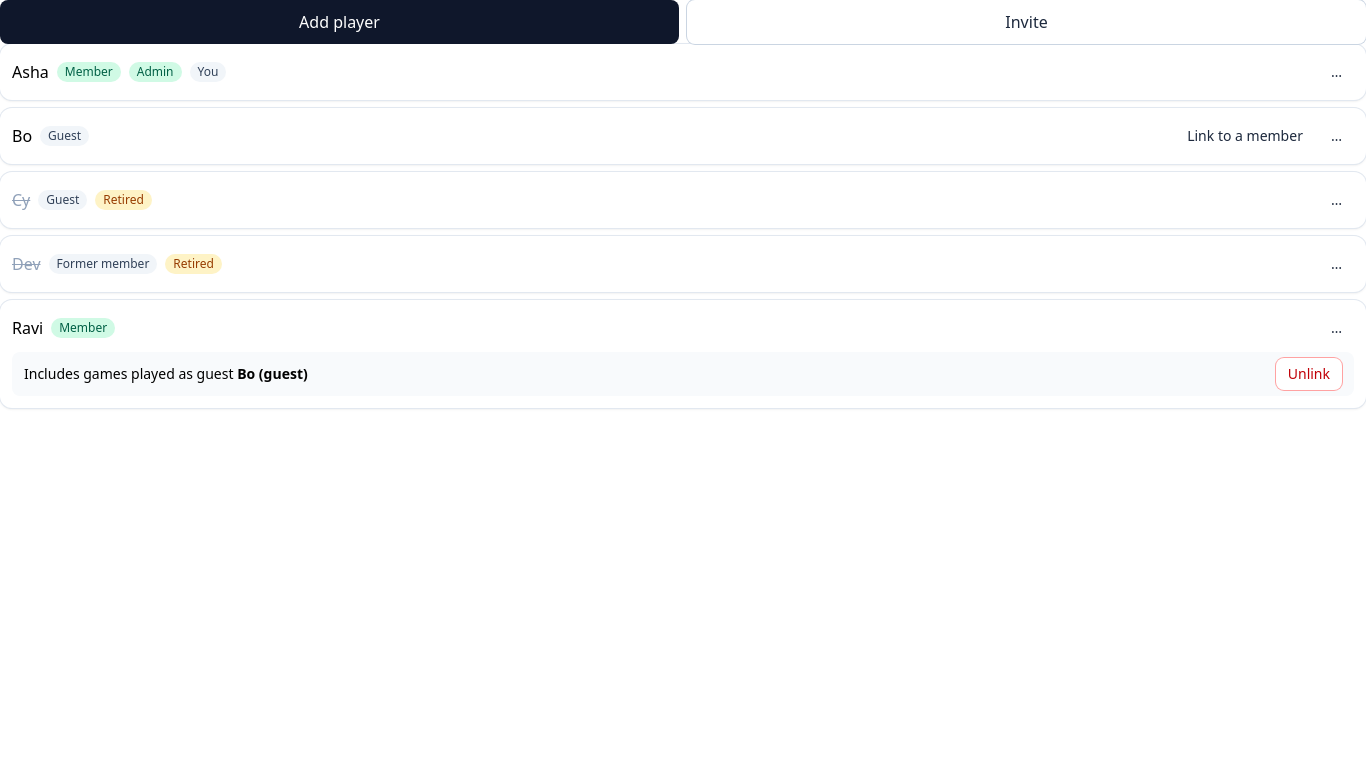
Test case: the actions on a row › opens the menu with rename and retire, and shuts it on Escape or a tap elsewhere
The image size is (1366, 768).
Click the 2nd button "…": (1336, 136) [1319, 120, 1354, 152]
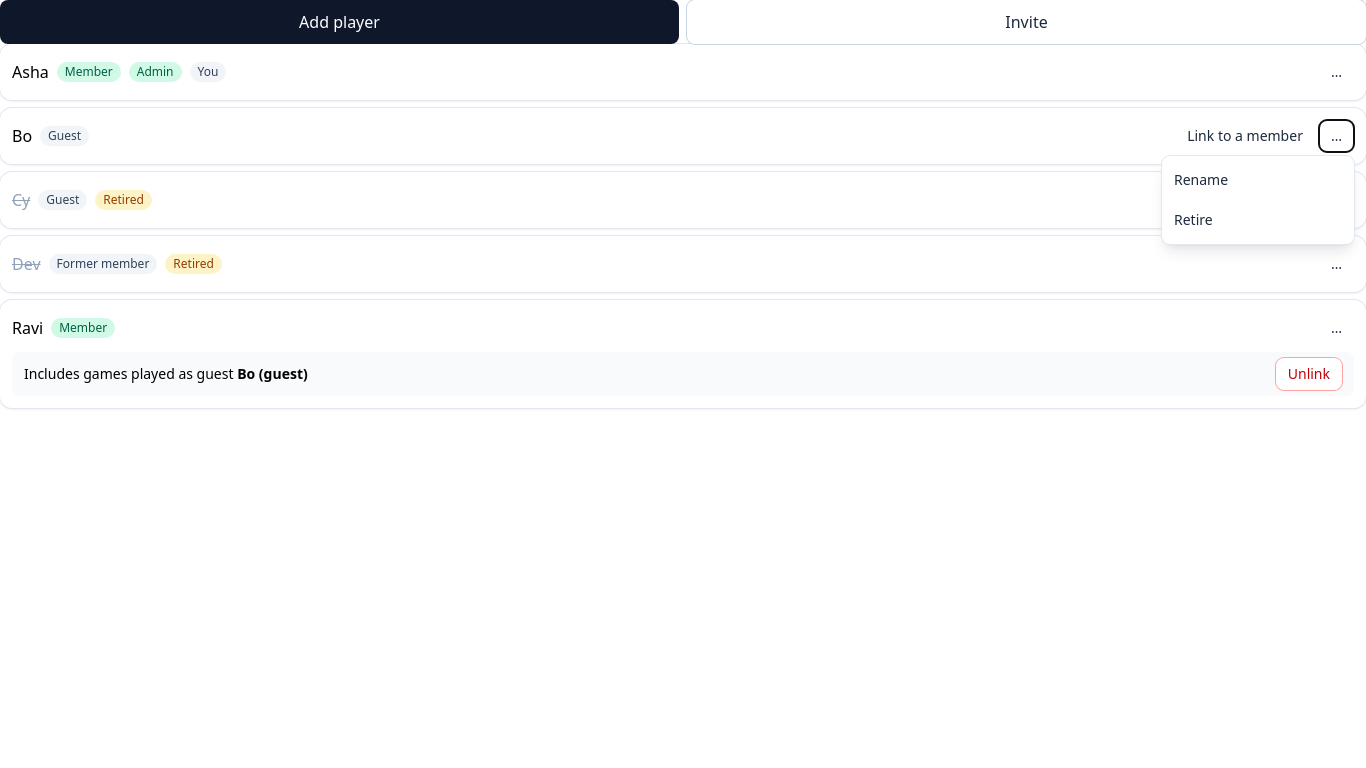
Check: the menu items read "Rename", "Retire", in this order, box [1162, 160, 1354, 200]; [1162, 200, 1354, 240]
Press Escape
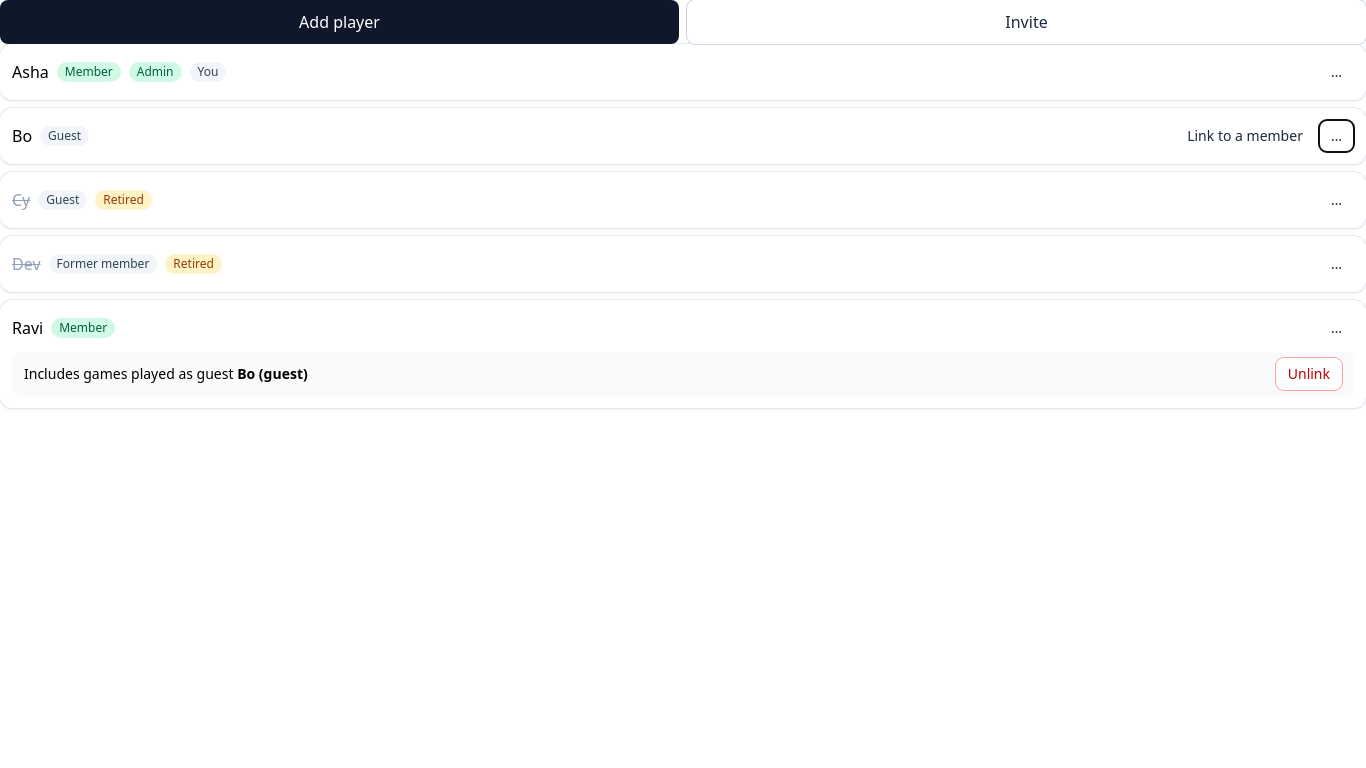
Check: the menu is gone
Click the 2nd button "…": (1336, 136) [1319, 120, 1354, 152]
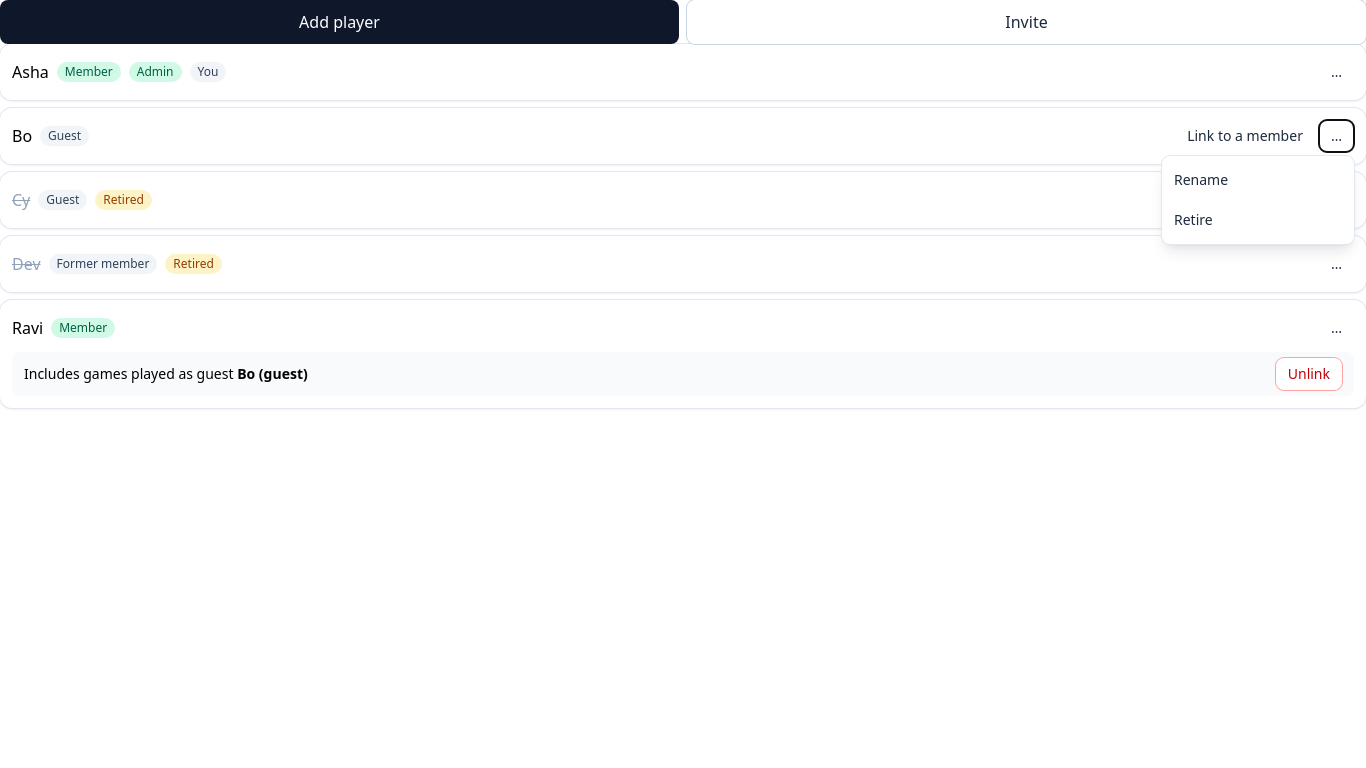
Click the button "Add player": (340, 22) [0, 0, 679, 44]
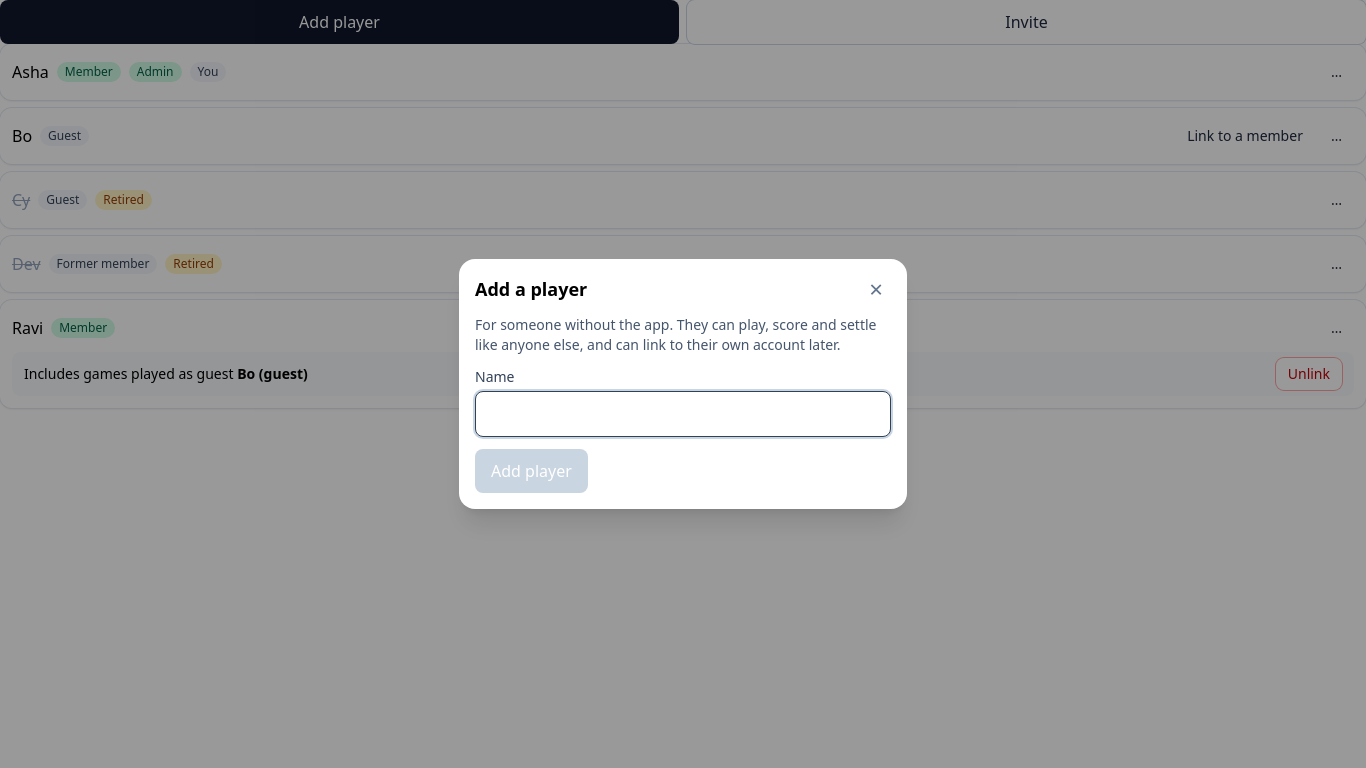
Check: the menu is gone
